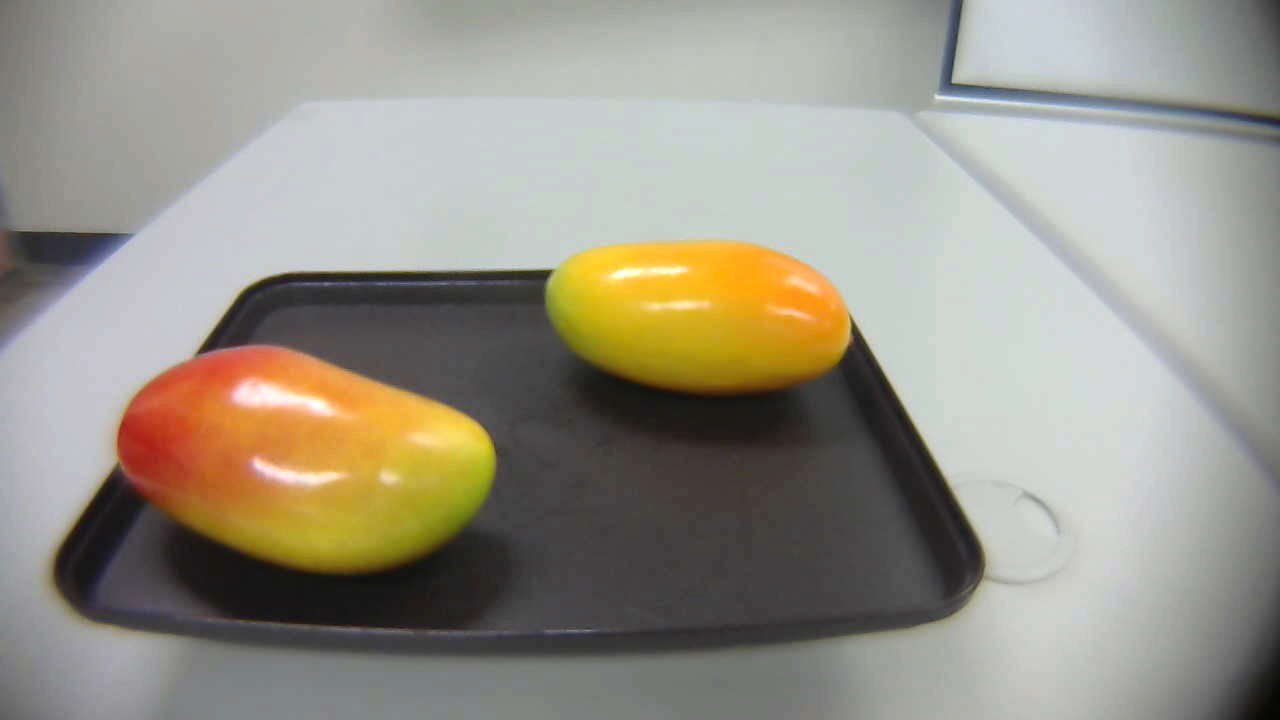red mango: (102, 329, 515, 577)
yellow mango: (531, 243, 865, 390)
